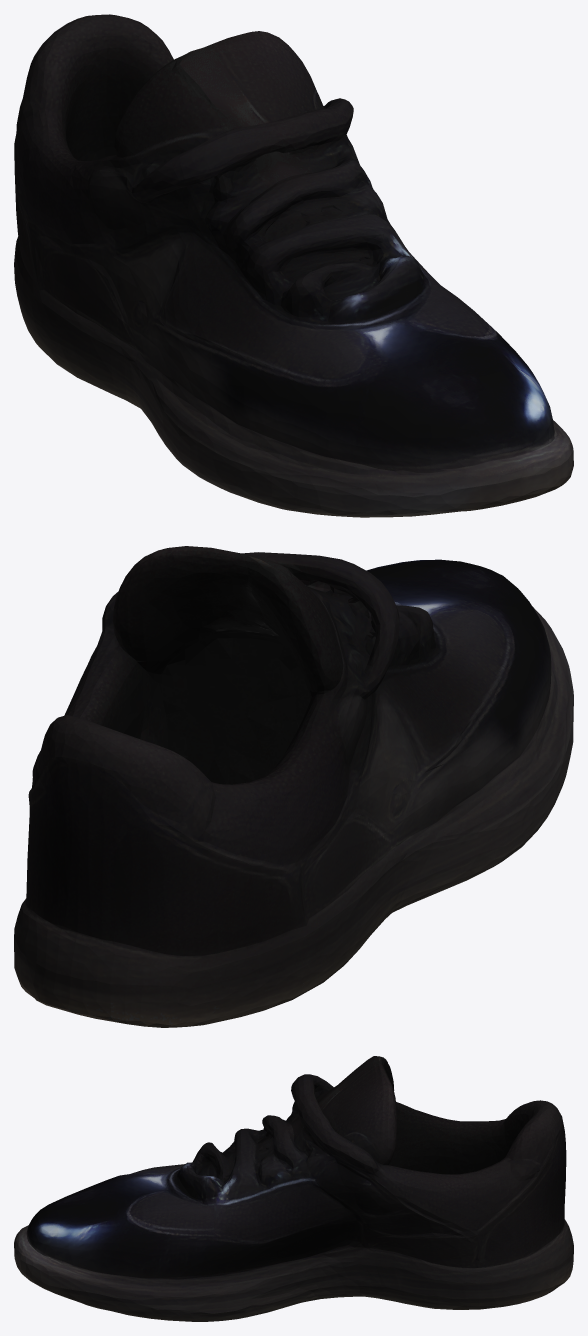
The model's file is sneakers-source.glb.
3 renders of one model, top to bottom at view 1: azimuth 30°, elevation 25°; view 2: azimuth 150°, elevation 25°; view 3: azimuth 270°, elevation 25°, orthographic. The views are drawn at different scales.
Visible parts, largest first — view 1: geometry_0; view 2: geometry_0; view 3: geometry_0.
Part boxes in pixels (x1,y1,x2,y2): geometry_0: (14,14,573,517); geometry_0: (14,546,573,1027); geometry_0: (14,1056,573,1321).
Size of the model in its own units: 0.3945 by 0.4308 by 0.9992.
Materials: 1 (1 with a texture image).
